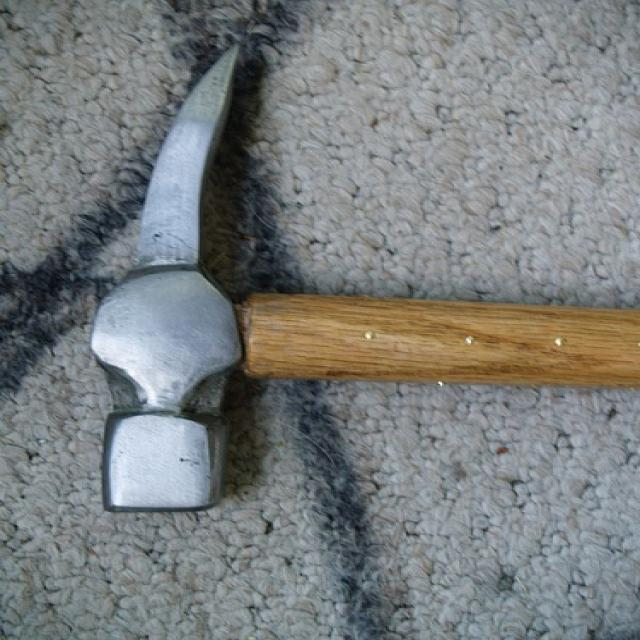hammer: (76, 32, 640, 540)
